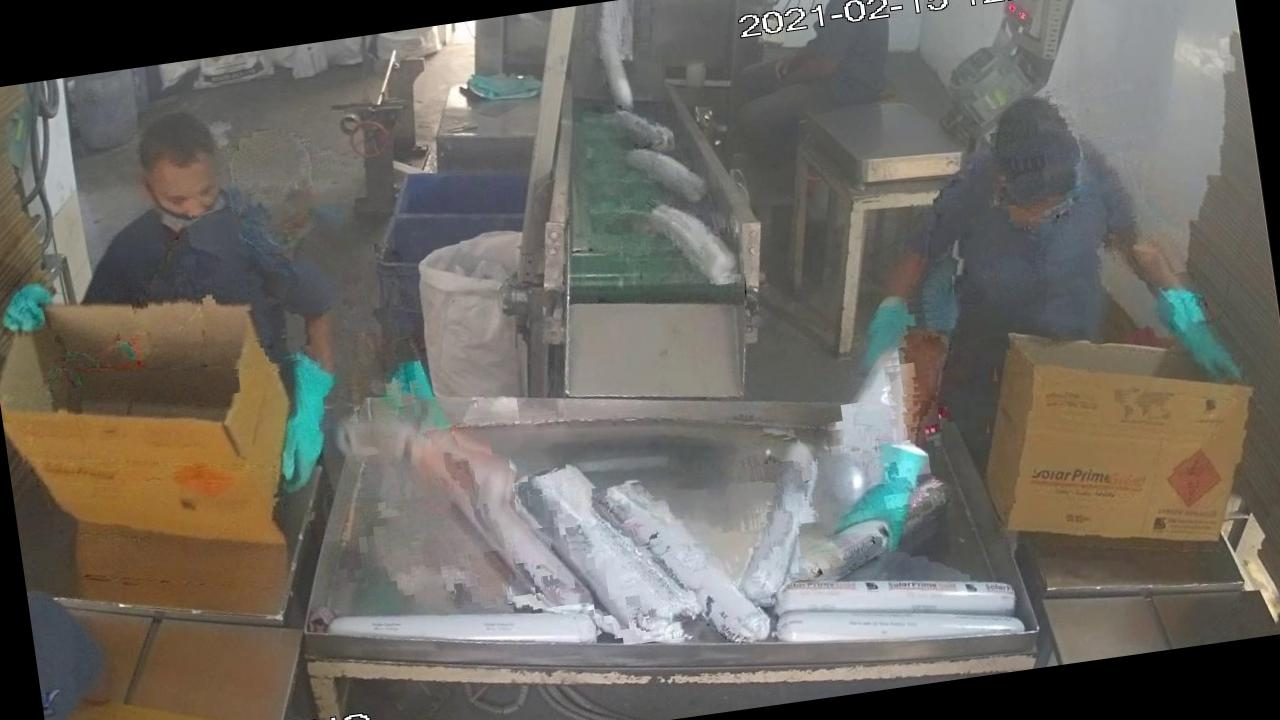Gloves: (228, 334, 354, 514), (806, 434, 949, 570), (1138, 270, 1252, 400)
